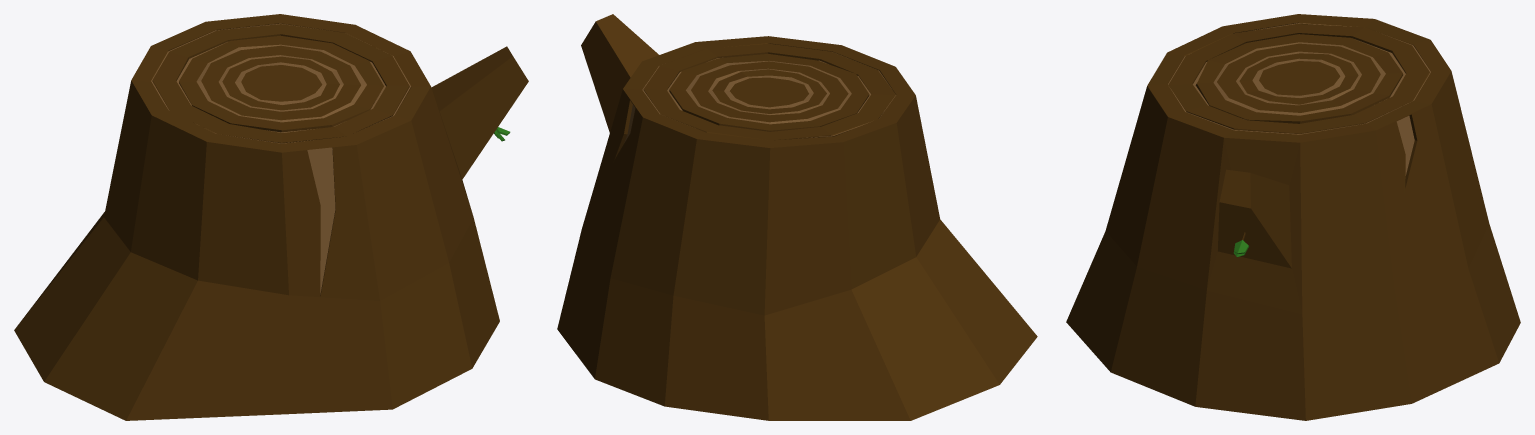
File: baumStumpf.fbx
3 views of the same model, side by side, from view 1: azimuth 30°, elevation 25°; view 2: azimuth 150°, elevation 25°; view 3: azimuth 270°, elevation 25° (orthographic). The views are drawn at different scales.
Parts seen in each view (by area): view 1: BaumStumpf; view 2: BaumStumpf; view 3: BaumStumpf.
Part boxes in pixels (bbox=[...]): BaumStumpf: bbox=[14, 14, 528, 420]; BaumStumpf: bbox=[557, 14, 1037, 420]; BaumStumpf: bbox=[1066, 14, 1520, 420].
Size of the model in its own units: 604 by 317 by 517.
